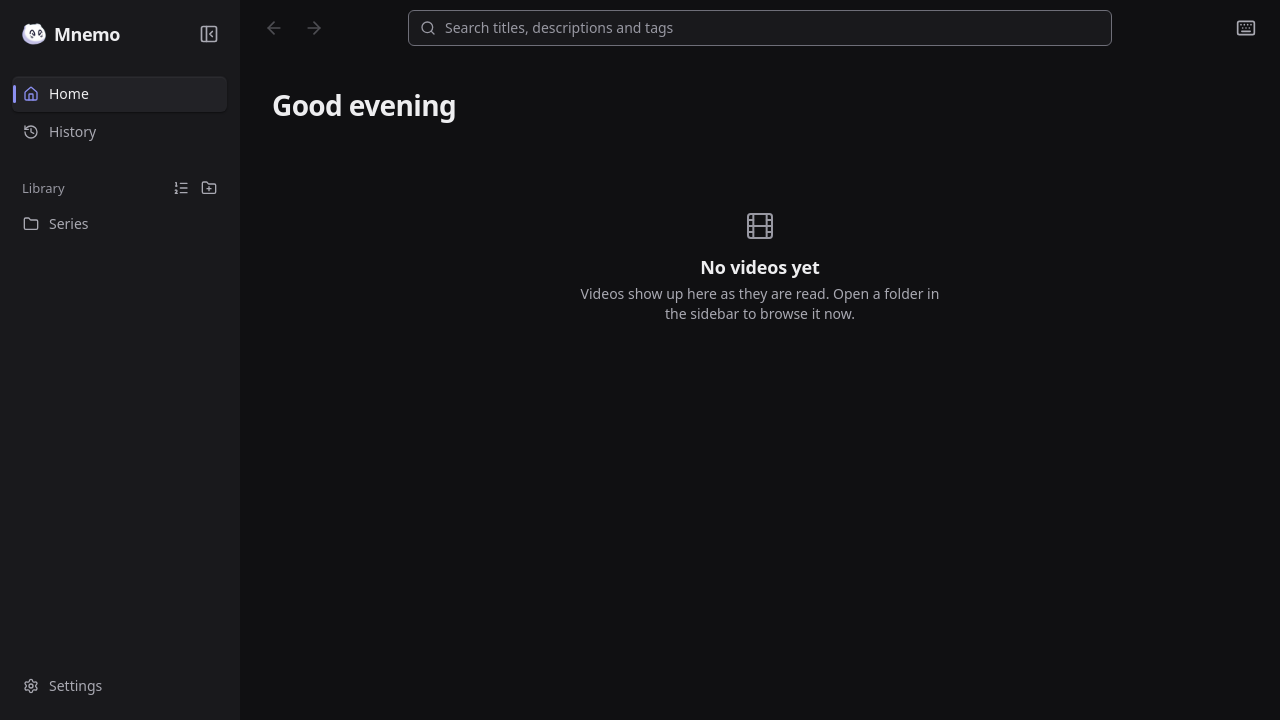
Test: app shell › opens the watch history from the sidebar
Click the link "History" at {"x": 60, "y": 132}, box x1=23 y1=122 x2=96 y2=141
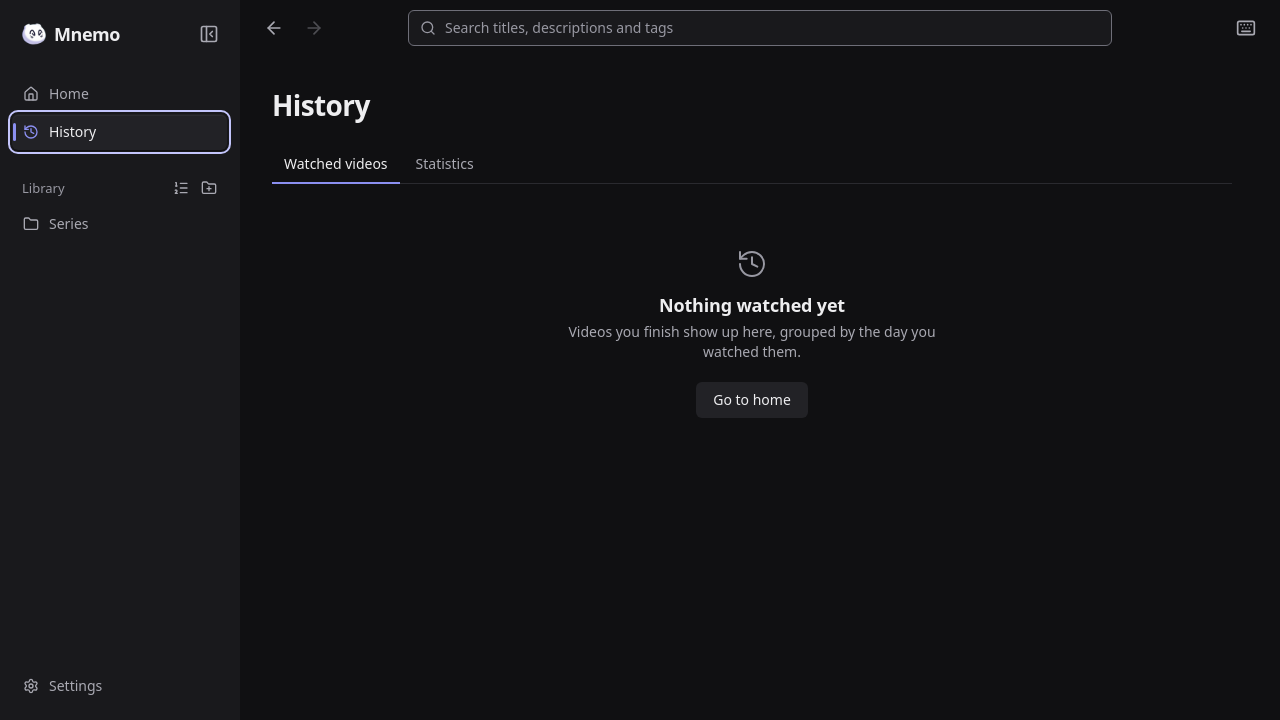
Result: the heading "History" is shown at x1=272 y1=86 x2=370 y2=124
